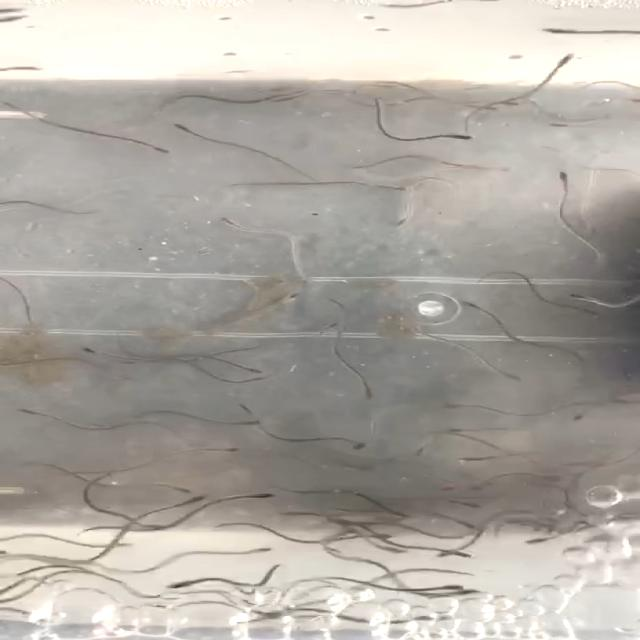active_glass_eel: (388, 208, 424, 242), (270, 292, 318, 314), (138, 142, 182, 166), (206, 205, 256, 225), (406, 610, 461, 628), (352, 384, 396, 406), (451, 297, 495, 319), (138, 580, 204, 594), (381, 175, 419, 199), (453, 492, 505, 509), (11, 406, 65, 422), (570, 411, 622, 427), (437, 387, 469, 412), (252, 604, 291, 624), (538, 168, 598, 181), (14, 567, 66, 581), (442, 453, 494, 467), (510, 536, 550, 554), (569, 302, 609, 320), (444, 128, 484, 146), (554, 53, 594, 71), (170, 118, 202, 140), (231, 360, 286, 372), (212, 442, 248, 460), (383, 502, 421, 518), (540, 120, 578, 136), (478, 374, 528, 386), (446, 546, 483, 562), (424, 547, 468, 560), (367, 513, 405, 528), (347, 441, 385, 456), (384, 544, 424, 558), (66, 343, 106, 357), (477, 162, 533, 172), (167, 482, 204, 497), (408, 447, 445, 462), (534, 22, 568, 38), (362, 533, 404, 545), (298, 518, 361, 526), (249, 490, 279, 506), (254, 546, 284, 561), (232, 402, 264, 416), (270, 91, 296, 108), (454, 587, 494, 598), (446, 520, 489, 530), (168, 494, 210, 504), (478, 101, 508, 115), (236, 372, 270, 384), (568, 293, 604, 303), (236, 418, 275, 426), (431, 580, 469, 588), (314, 322, 356, 329), (440, 432, 470, 440), (506, 100, 530, 110)
